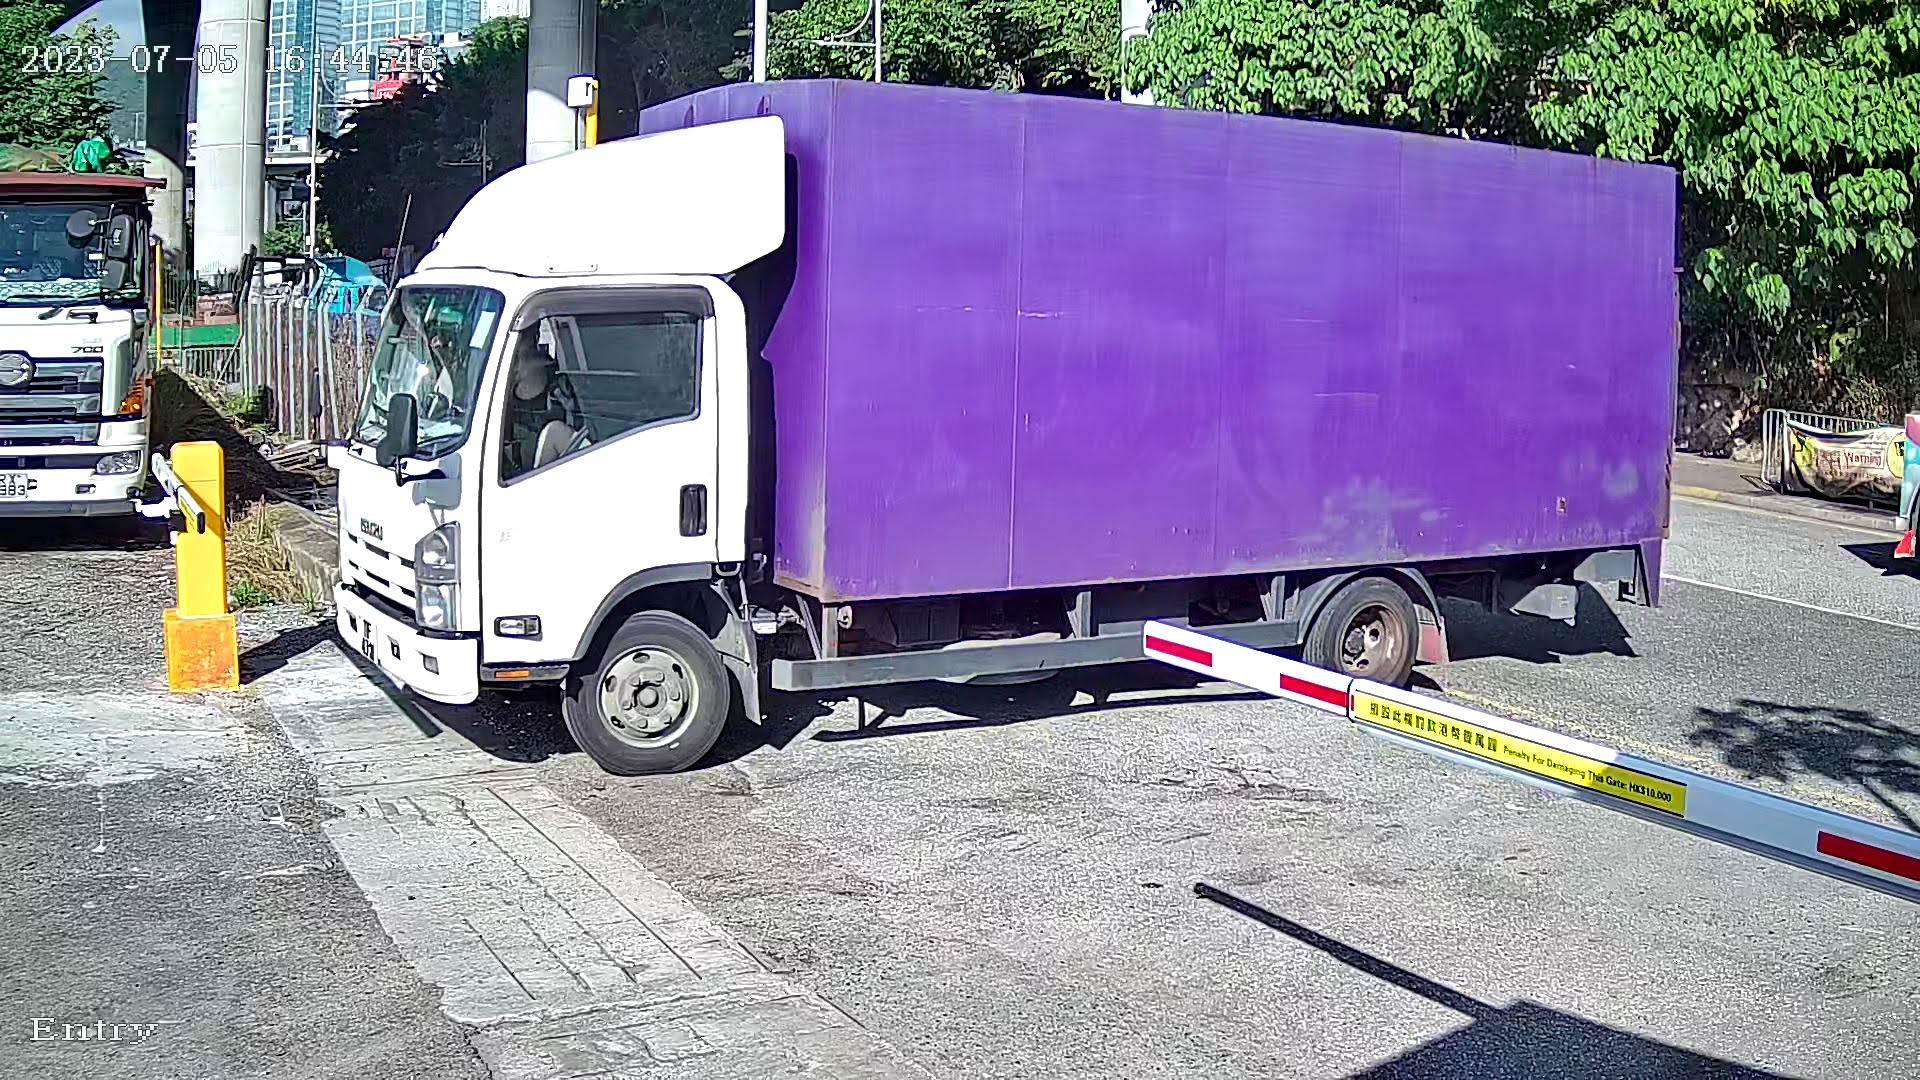truck_small: (293, 61, 1709, 822)
